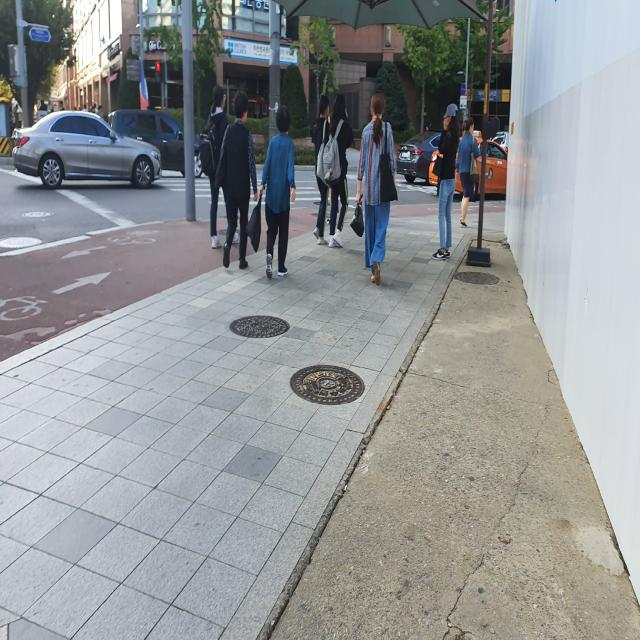빨간불: (155, 59, 161, 82)
횡단보도: (152, 178, 363, 210)
